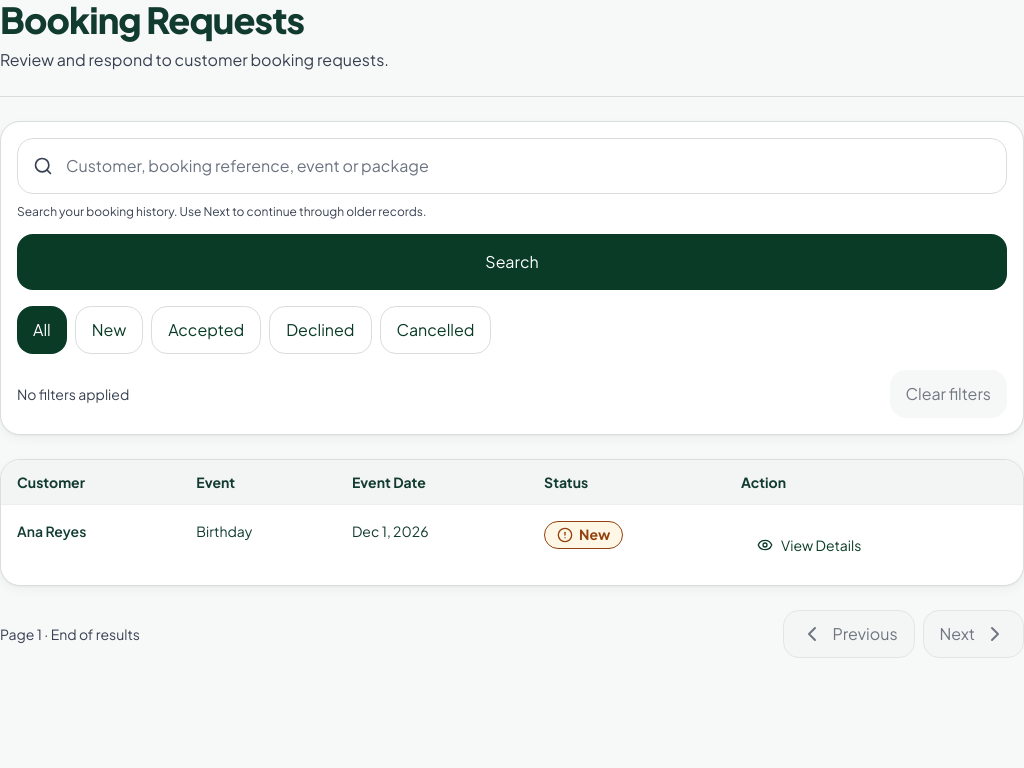
Test: provider request acceptance copy › shows load errors and ignores stale results after text changes
In the search field: {"x": 512, "y": 166} [17,138,1007,194], type "Ana"
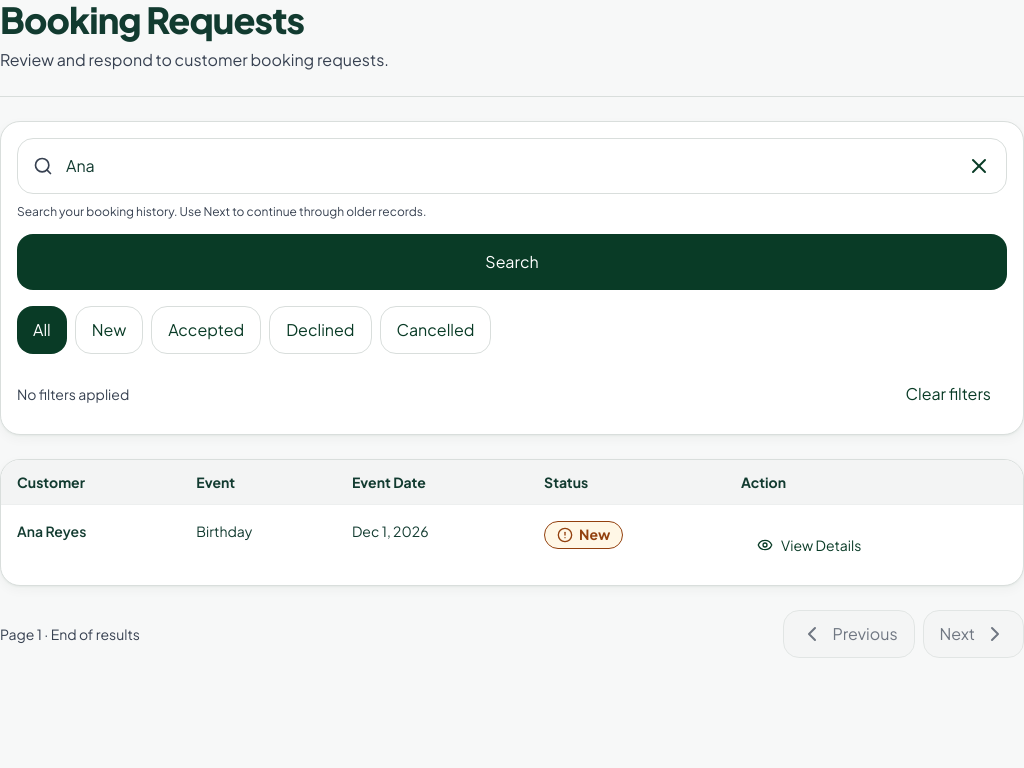
Submit the form, box [17,138,1007,290]
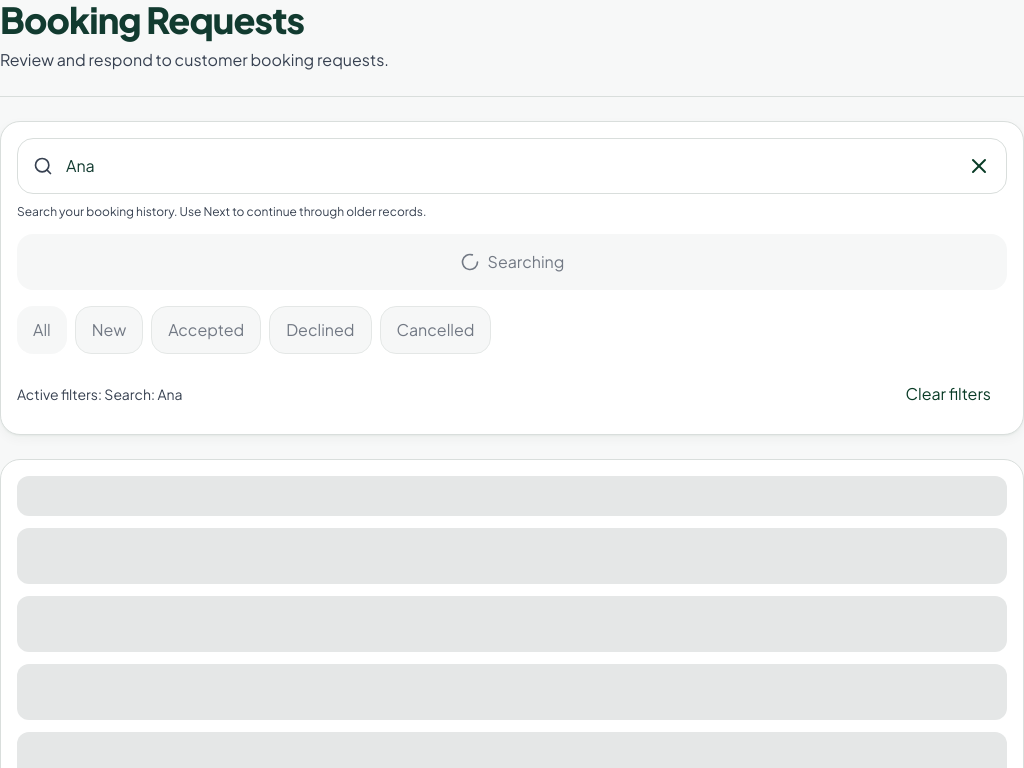
expect the button "Searching" is disabled: met, box [17,234,1007,290]
Replace the text in the search field with "Other": {"x": 512, "y": 166} [17,138,1007,194]
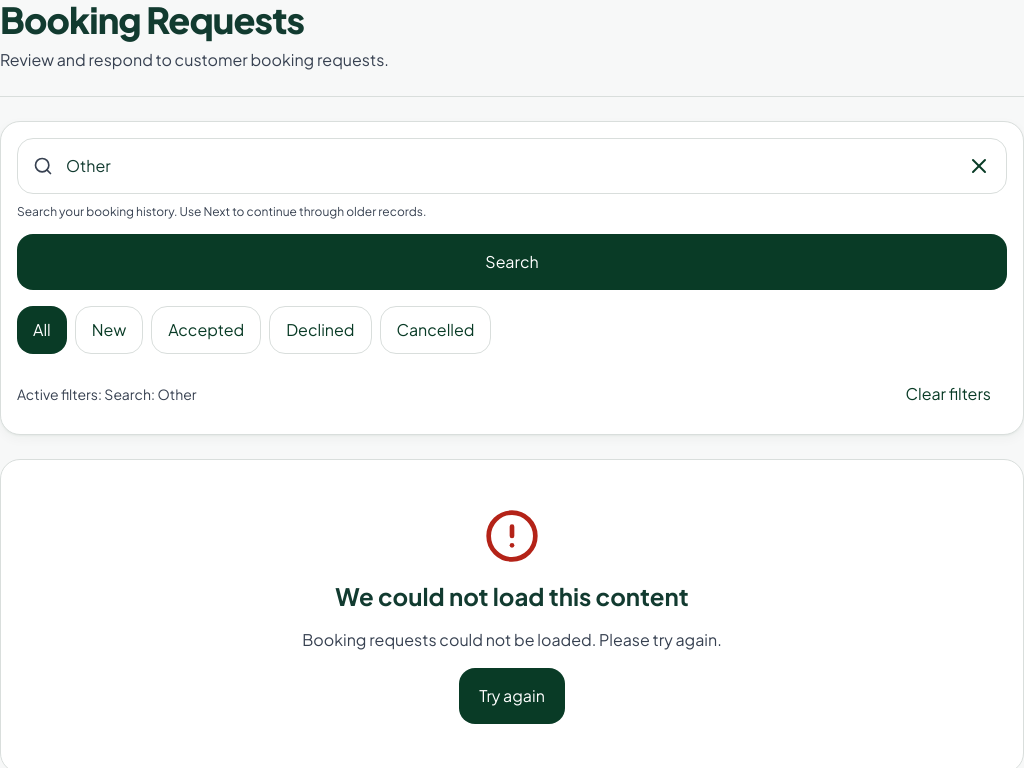
expect the text "Booking requests could not be loaded. Please try again." is shown: met, box [302,628,722,652]
